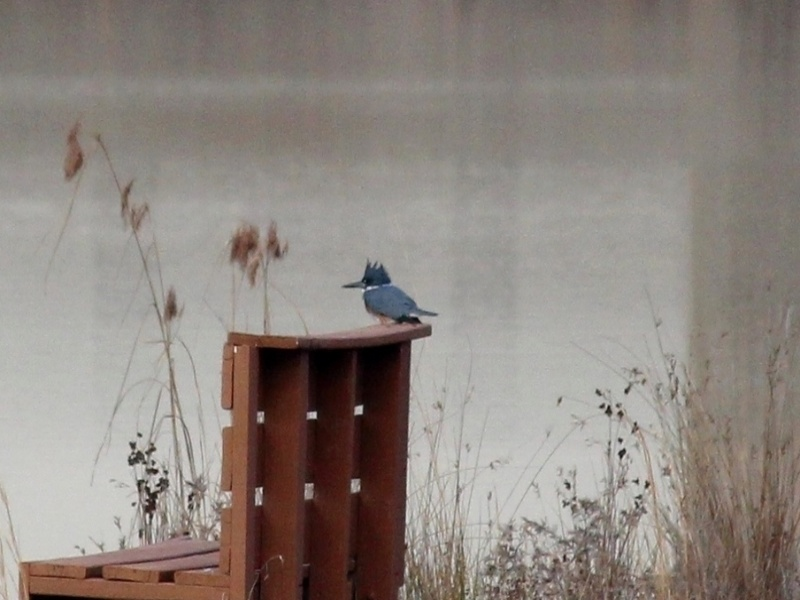kingfisher: (342, 259, 440, 328)
